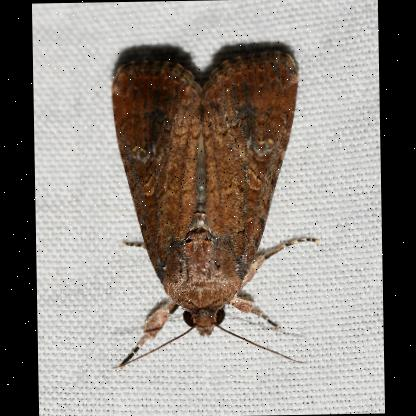Fall Armyworm Moth: (100, 44, 326, 374)
